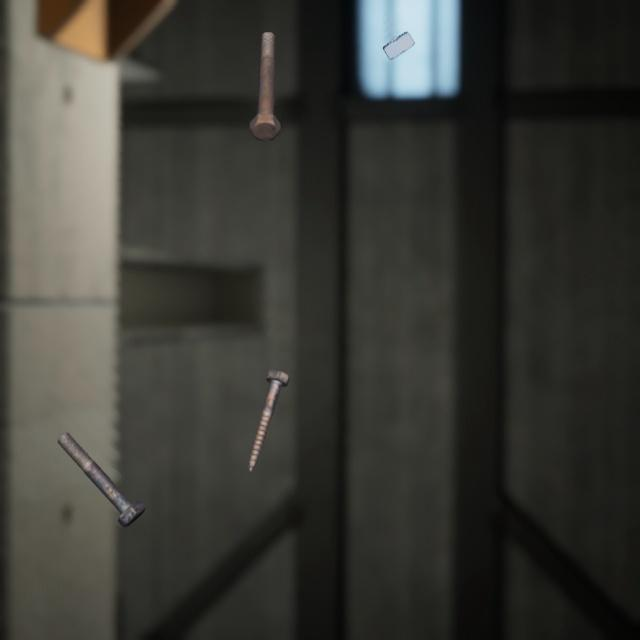bolt: (52, 407, 150, 510), (243, 344, 293, 455), (245, 15, 285, 132)
nut: (377, 18, 419, 56)
